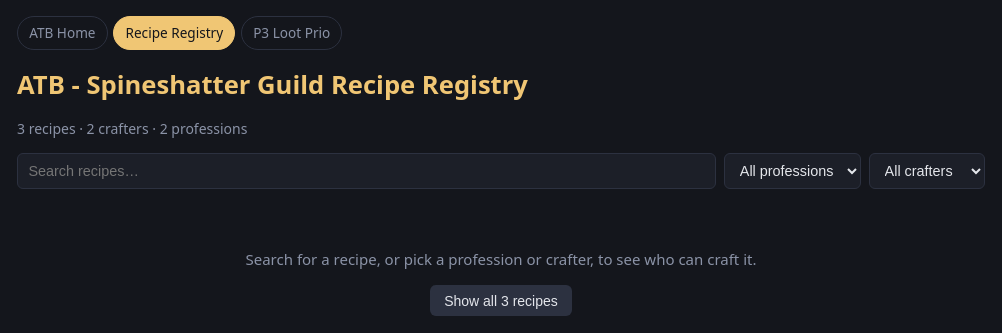
Scenario: App › narrows results as you type a search
The width and height of the screenshot is (1002, 333).
Type "sunfire" into the search field labelled "Search recipes".
click(367, 171); type("sunfire")  # box [17,153,716,189]
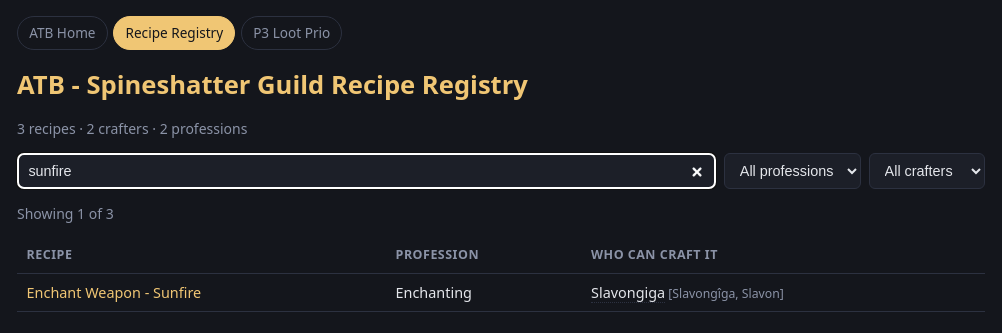
Expected: the text "Showing 1 of 3" is shown, [17,204,114,223]
